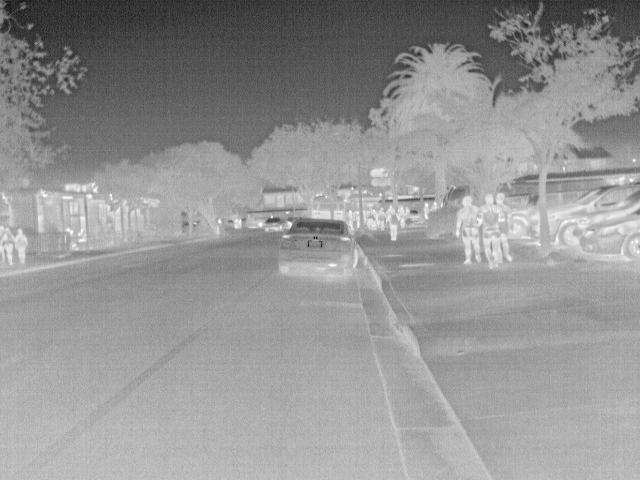car: (547, 180, 639, 251), (277, 219, 361, 280), (575, 208, 639, 264), (511, 206, 538, 237), (264, 216, 285, 234)
person: (477, 195, 503, 270), (456, 195, 483, 263), (494, 193, 512, 263), (0, 225, 16, 267), (14, 227, 30, 261), (387, 211, 401, 242), (376, 205, 390, 231), (365, 205, 378, 231), (72, 225, 87, 242)
